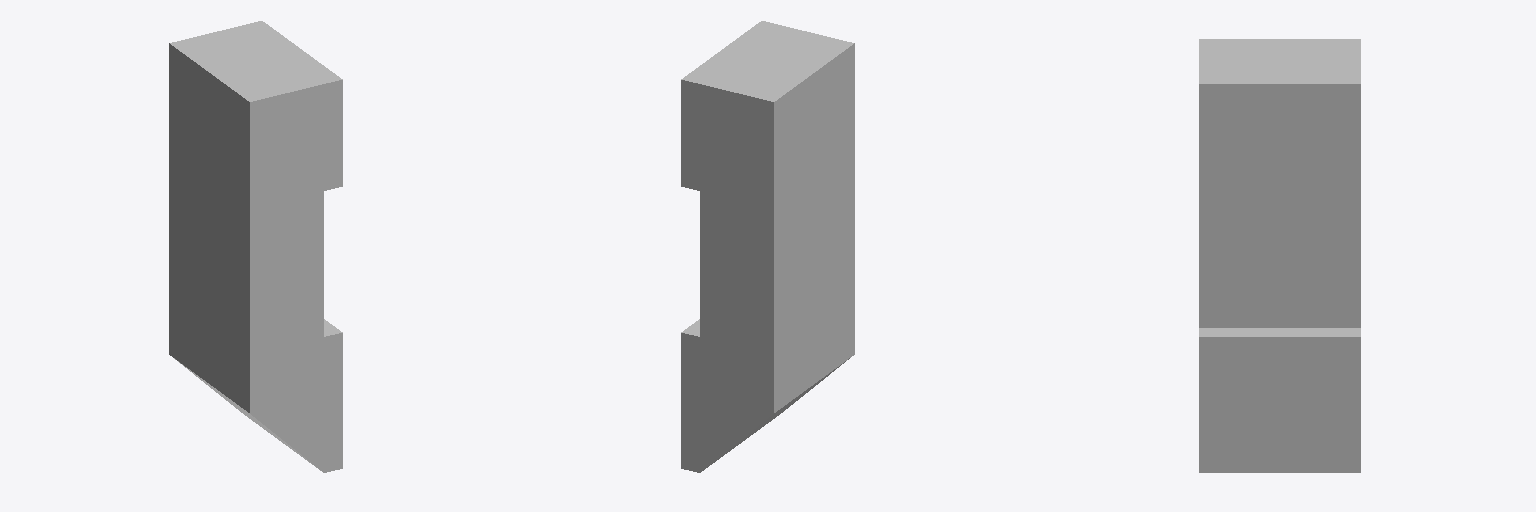
Rendered from RA_Gripper_2.obj.
The picture shows the model from 3 angles: view 1: azimuth 30°, elevation 25°; view 2: azimuth 150°, elevation 25°; view 3: azimuth 270°, elevation 25°; orthographic projection.
Parts seen in each view (by area): view 1: Left_Gripper_2D_Pick_and_Place; view 2: Left_Gripper_2D_Pick_and_Place; view 3: Left_Gripper_2D_Pick_and_Place.
Boxes of the visible parts, x1,y1,x2,y2 form: Left_Gripper_2D_Pick_and_Place: [169, 21, 342, 472]; Left_Gripper_2D_Pick_and_Place: [681, 21, 854, 472]; Left_Gripper_2D_Pick_and_Place: [1199, 39, 1360, 472].
Bounding box in the file's own units: 10 × 40 × 15.